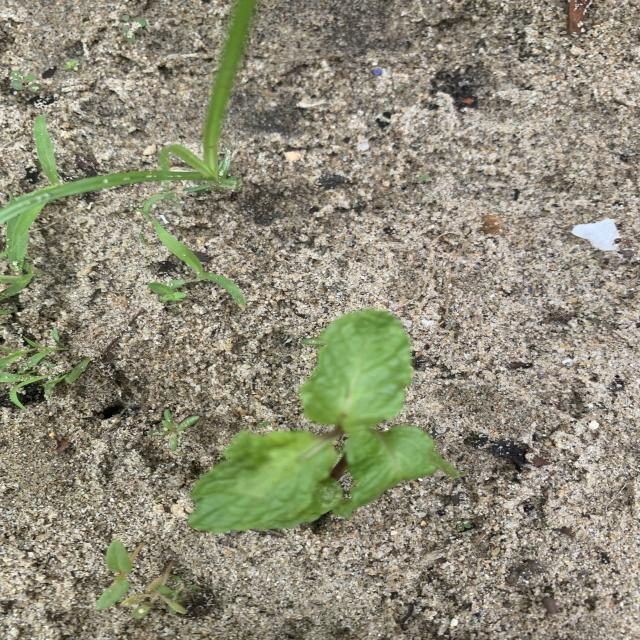crop: (190, 308, 460, 532)
weed: (0, 0, 255, 223), (153, 220, 246, 307), (96, 540, 187, 619), (1, 329, 66, 409), (0, 201, 45, 298), (154, 410, 198, 451), (148, 280, 187, 302), (119, 15, 147, 41), (10, 70, 40, 92), (64, 60, 80, 71)
